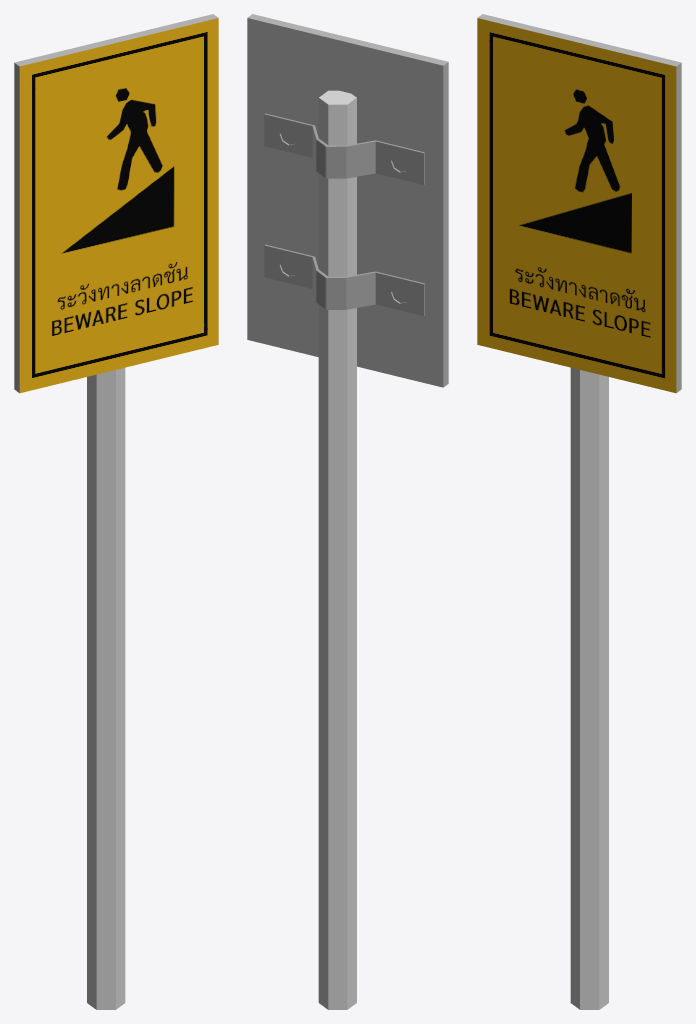
Rendered from Chuan Sign.glb.
The picture shows the model from 3 angles, left to right: view 1: azimuth 30°, elevation 25°; view 2: azimuth 150°, elevation 25°; view 3: azimuth 330°, elevation 25°; orthographic projection.
Parts seen in each view (by area): view 1: Cube.003; view 2: Cube.003; view 3: Cube.003.
Boxes of the visible parts, x1,y1,x2,y2 form: Cube.003: (14,14,218,1009); Cube.003: (247,14,448,1009); Cube.003: (477,14,681,1009).
Size of the model in its own units: 0.7921 by 3.69 by 0.1721.
2 materials, 1 textured.
